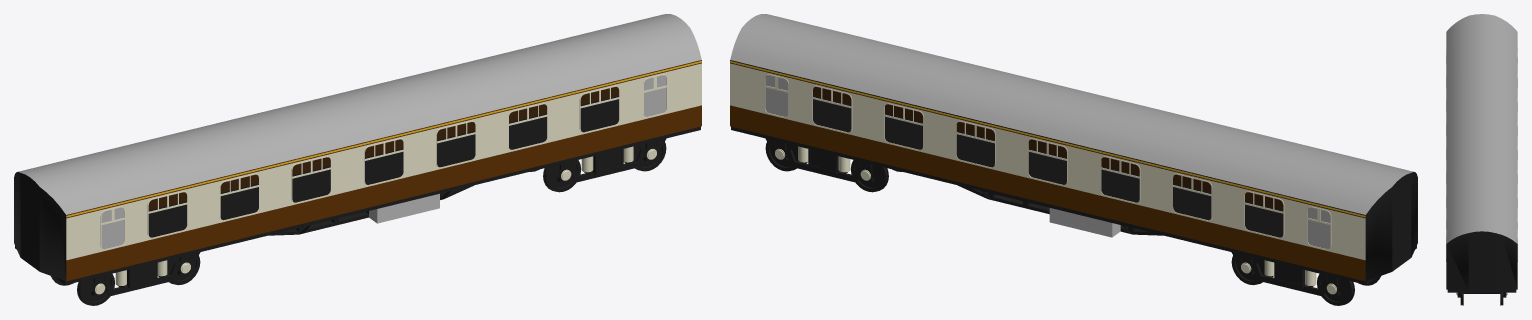
The model's file is br_coach_mk1.obj.
The picture shows the model from 3 angles, left to right: view 1: azimuth 30°, elevation 25°; view 2: azimuth 150°, elevation 25°; view 3: azimuth 270°, elevation 25°; orthographic projection. The views are drawn at different scales.
Visible parts, largest first — view 1: group_1.004_ID704.001, group_1.029_ID860, group_1.259_ID1408, group_1.003_ID698.001, group_0_ID342, group_1.258_ID1400, group_1.260_ID1414, BOGEY_REAR.001_ID355, BOGEY_FRONT_ID3.001, SketchUp.004_ID1913.001, group_1.327_ID1818, group_1.261_ID1422 (+10 smaller); view 2: group_1.004_ID704.001, group_1.264_ID1440, group_1.258_ID1400, group_1.003_ID698.001, group_0_ID342, group_1.259_ID1408, group_1.263_ID1434, BOGEY_REAR.001_ID355, BOGEY_FRONT_ID3.001, SketchUp.005_ID1921.001, group_1.262_ID1428, group_1.312_ID1728 (+9 smaller); view 3: group_1.004_ID704.001, group_1.003_ID698.001, group_0_ID342, BOGEY_REAR.033_ID547.
Part boxes in pixels (x1,y1,x2,y2): group_1.004_ID704.001: (18,14,701,214); group_1.029_ID860: (66,63,701,260); group_1.259_ID1408: (66,105,701,281); group_1.003_ID698.001: (14,96,618,281); group_0_ID342: (15,100,700,284); group_1.258_ID1400: (148,87,618,210); group_1.260_ID1414: (66,61,701,217); BOGEY_REAR.001_ID355: (550,138,666,182); BOGEY_FRONT_ID3.001: (84,252,200,296); SketchUp.004_ID1913.001: (369,193,439,223); group_1.327_ID1818: (66,60,701,215); group_1.261_ID1422: (66,62,701,218); group_1.004_ID704.001: (730,14,1413,214); group_1.264_ID1440: (730,63,1365,260); group_1.258_ID1400: (730,105,1365,281); group_1.003_ID698.001: (730,60,1417,281); group_0_ID342: (731,98,1416,284); group_1.259_ID1408: (813,87,1283,210); group_1.263_ID1434: (730,61,1365,217); BOGEY_REAR.001_ID355: (765,138,881,182); BOGEY_FRONT_ID3.001: (1231,252,1347,296); SketchUp.005_ID1921.001: (1049,208,1120,237); group_1.262_ID1428: (730,62,1365,218); group_1.312_ID1728: (813,99,851,132); group_1.004_ID704.001: (1446,14,1517,243); group_1.003_ID698.001: (1446,231,1517,291); group_0_ID342: (1447,289,1516,292); BOGEY_REAR.033_ID547: (1463,292,1500,293).
Size of the model in its own units: 19.79 by 3.78 by 2.77.
